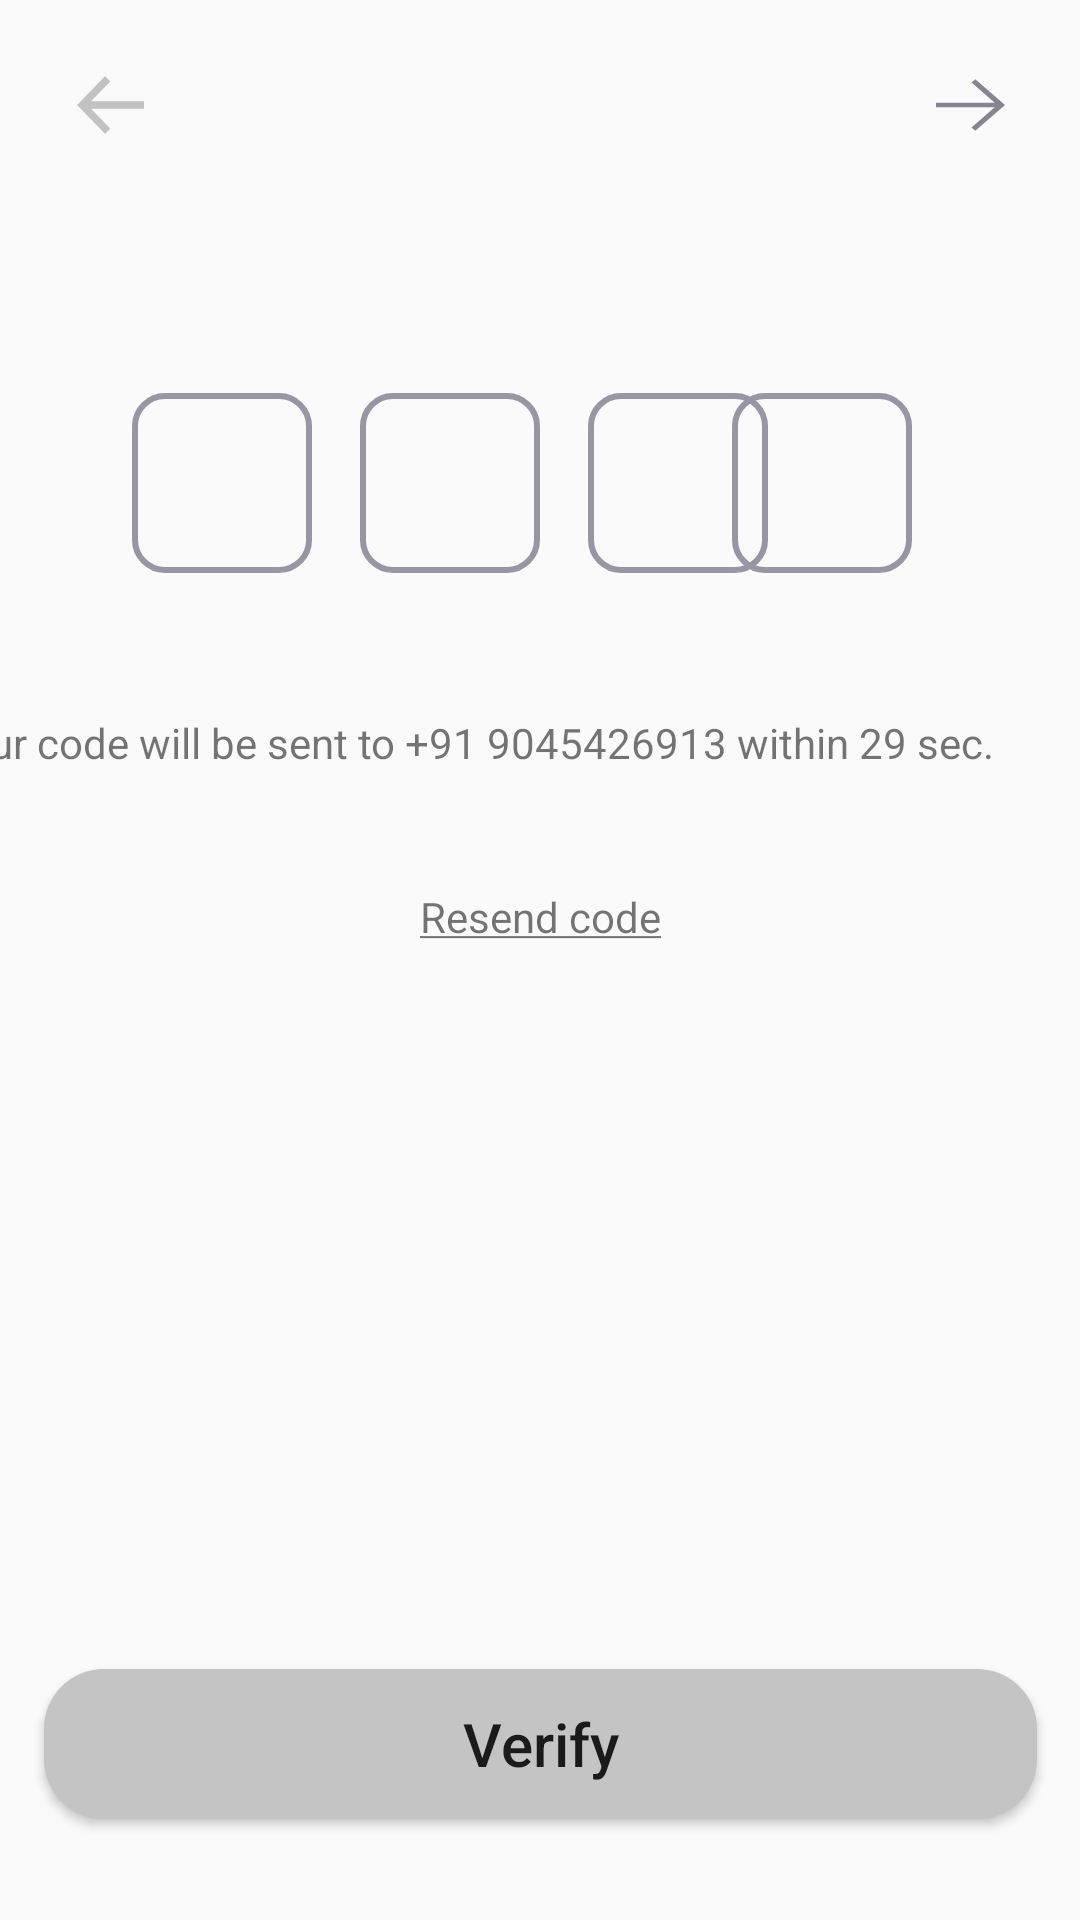

Icons on this 1080×1920 Android screen, each with the point to tap as point (x, y):
backbutton: point (111, 105)
right arrow: point (970, 105)
